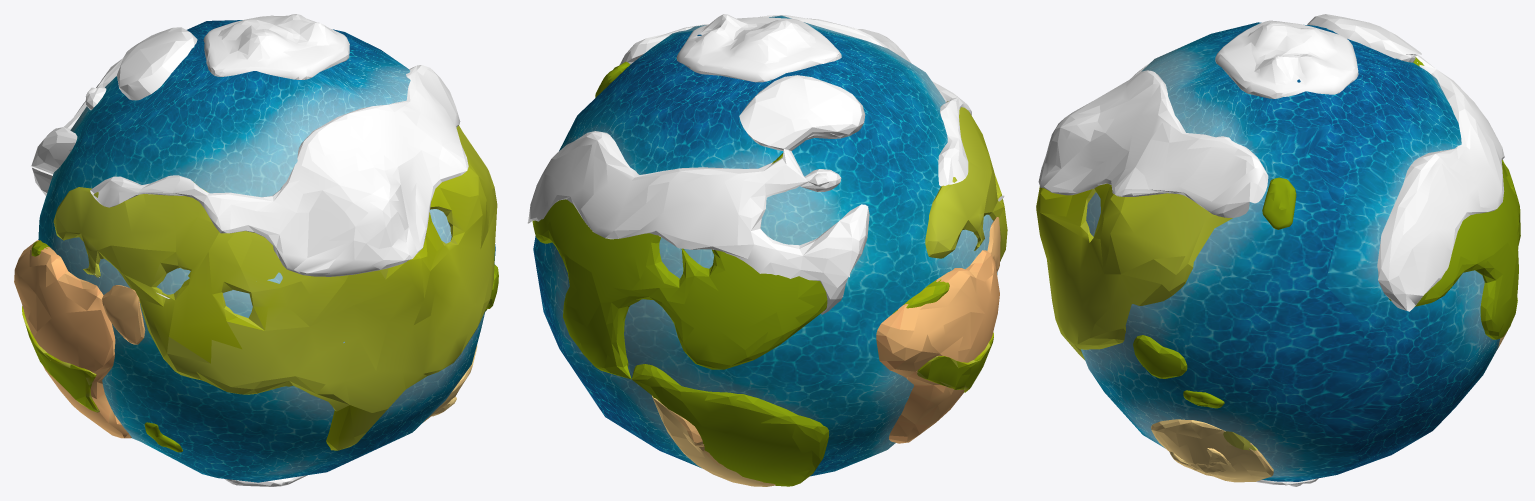
The model's file is reduced_planet.obj.
The picture shows the model from 3 angles, left to right: view 1: azimuth 30°, elevation 25°; view 2: azimuth 150°, elevation 25°; view 3: azimuth 270°, elevation 25°; orthographic projection.
Visible parts, largest first — view 1: water_2_Mesh.994, Sphere_2_Mesh.1000, Sphere_1_Mesh.999, Sphere_Mesh.993, Sphere_3_Mesh.1001, America_White_1_Mesh.996, Continents_Mesh.998, Africa_Green_Mesh.995; view 2: water_2_Mesh.994, Continents_Mesh.998, America_White_1_Mesh.996, Sphere_Mesh.993, Sphere_3_Mesh.1001, Sphere_2_Mesh.1000, Sphere_1_Mesh.999, Africa_Green_Mesh.995, America_White_Mesh.997; view 3: water_2_Mesh.994, Sphere_2_Mesh.1000, Sphere_1_Mesh.999, America_White_1_Mesh.996, Continents_Mesh.998, Sphere_3_Mesh.1001, America_White_Mesh.997.
Boxes of the visible parts, left/top/right/bottom form: water_2_Mesh.994: left=38, top=20, right=495, bottom=482; Sphere_2_Mesh.1000: left=53, top=125, right=497, bottom=450; Sphere_1_Mesh.999: left=90, top=65, right=468, bottom=298; Sphere_Mesh.993: left=14, top=240, right=131, bottom=438; Sphere_3_Mesh.1001: left=144, top=14, right=487, bottom=486; America_White_1_Mesh.996: left=30, top=27, right=197, bottom=195; Continents_Mesh.998: left=85, top=86, right=498, bottom=422; Africa_Green_Mesh.995: left=22, top=240, right=99, bottom=412; water_2_Mesh.994: left=533, top=15, right=997, bottom=476; Continents_Mesh.998: left=532, top=133, right=1000, bottom=486; America_White_1_Mesh.996: left=527, top=75, right=869, bottom=314; Sphere_Mesh.993: left=876, top=250, right=999, bottom=443; Sphere_3_Mesh.1001: left=595, top=14, right=841, bottom=97; Sphere_2_Mesh.1000: left=925, top=101, right=1007, bottom=261; Sphere_1_Mesh.999: left=619, top=15, right=1004, bottom=237; Africa_Green_Mesh.995: left=893, top=279, right=993, bottom=392; America_White_Mesh.997: left=652, top=395, right=775, bottom=486; water_2_Mesh.994: left=1081, top=22, right=1499, bottom=481; Sphere_2_Mesh.1000: left=1036, top=183, right=1232, bottom=359; Sphere_1_Mesh.999: left=1038, top=63, right=1268, bottom=217; America_White_1_Mesh.996: left=1223, top=14, right=1504, bottom=450; Continents_Mesh.998: left=1133, top=54, right=1520, bottom=482; Sphere_3_Mesh.1001: left=1183, top=20, right=1358, bottom=486; America_White_Mesh.997: left=1169, top=330, right=1507, bottom=476.
Size of the model in its own units: 2.12 by 2.18 by 2.15.
